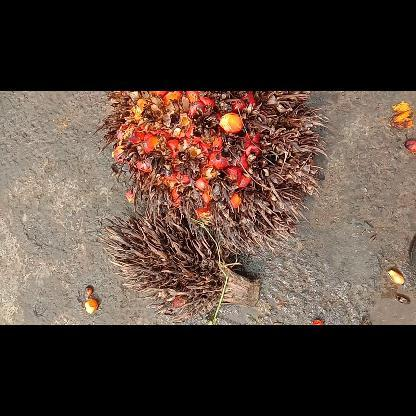Janjang kosong: (98, 204, 258, 322)
Terlalu masak: (98, 91, 326, 253)
